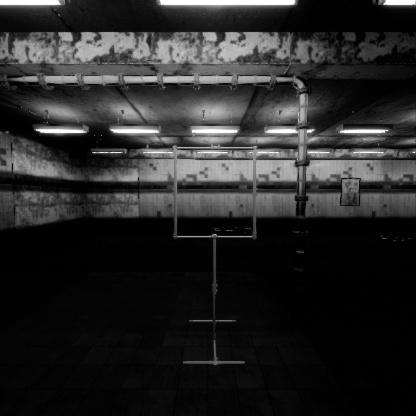gate: (173, 176, 264, 269)
